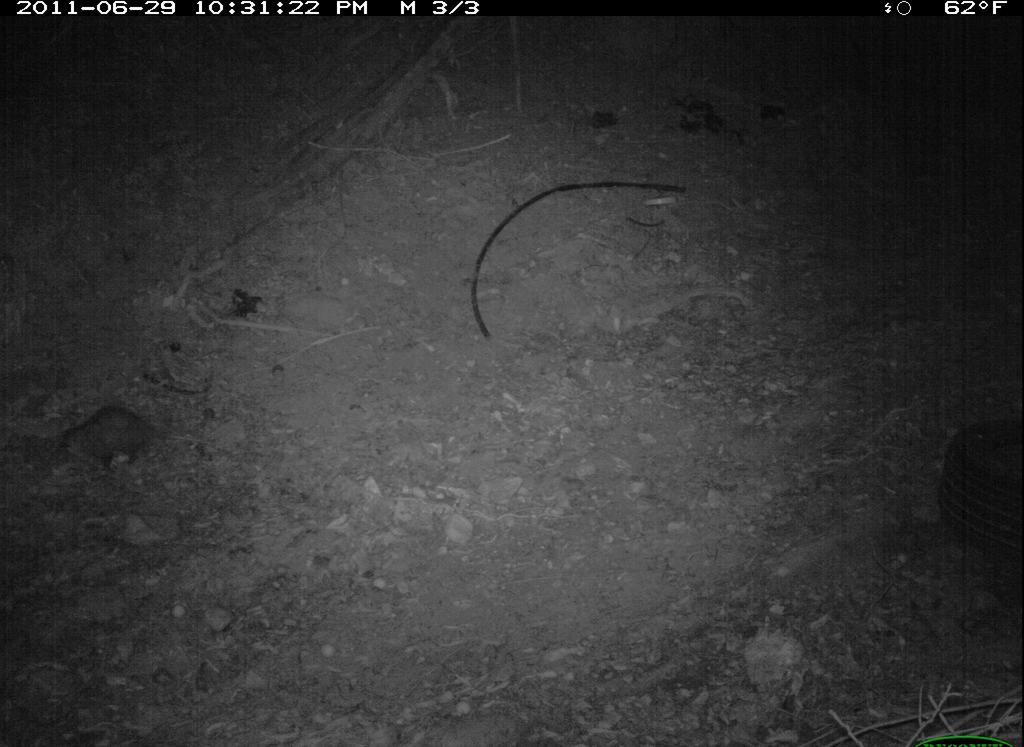opossum: (50, 395, 225, 483)
